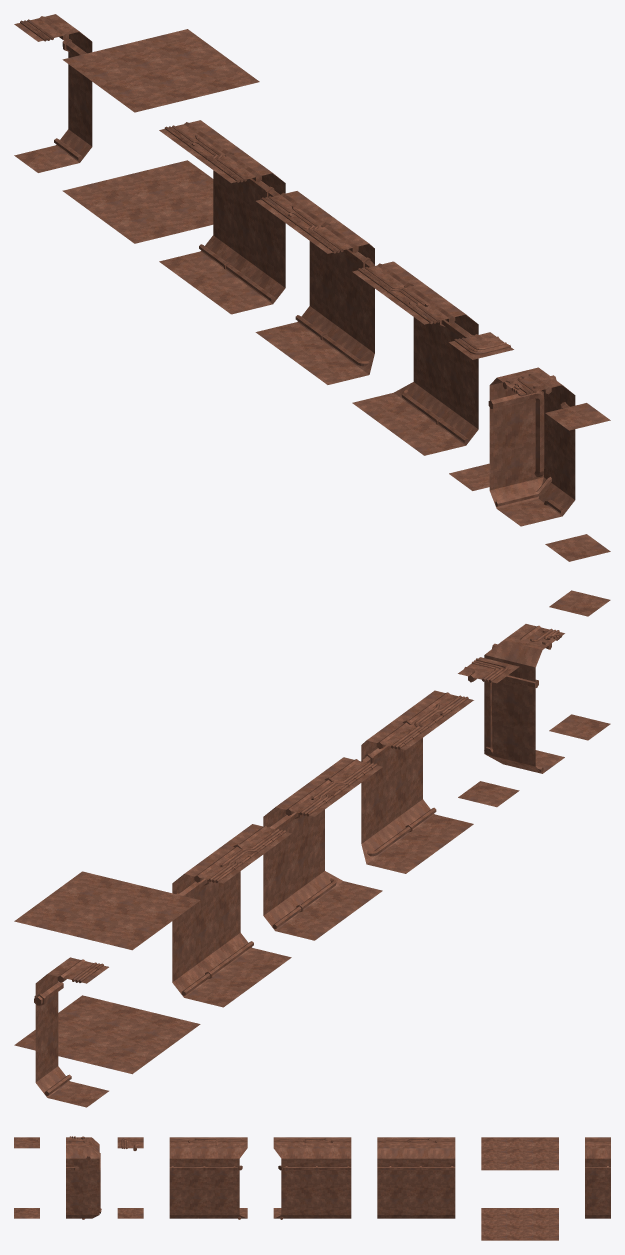
Rendered from tileset.glb.
3 renders of one model, top to bottom at view 1: azimuth 30°, elevation 25°; view 2: azimuth 150°, elevation 25°; view 3: azimuth 270°, elevation 25°, orthographic. The views are drawn at different scales.
Parts seen in each view (by area): view 1: room-col, corridor-col, corner-corridor-alt-col, corner-corridor-col, outer-corner-col, corridor-small-col, small-floor-col, inner-corner-col; view 2: room-col, corridor-col, corner-corridor-col, corner-corridor-alt-col, outer-corner-col, corridor-small-col, inner-corner-col, small-floor-col; view 3: corridor-col, corner-corridor-alt-col, corner-corridor-col, room-col, outer-corner-col, corridor-small-col, inner-corner-col, small-floor-col.
Part boxes in pixels (x1,y1,x2,y2): room-col: [62, 29, 259, 243]; corridor-col: [159, 120, 285, 314]; corner-corridor-alt-col: [352, 261, 478, 455]; corner-corridor-col: [255, 191, 374, 384]; outer-corner-col: [488, 367, 575, 526]; corridor-small-col: [14, 14, 92, 172]; small-floor-col: [545, 403, 610, 561]; inner-corner-col: [449, 332, 513, 490]; room-col: [14, 871, 200, 1074]; corridor-col: [172, 824, 291, 1007]; corner-corridor-col: [263, 757, 382, 940]; corner-corridor-alt-col: [361, 690, 473, 873]; outer-corner-col: [484, 624, 564, 773]; corridor-small-col: [34, 957, 108, 1107]; inner-corner-col: [458, 657, 519, 807]; small-floor-col: [549, 590, 610, 740]; corridor-col: [377, 1137, 455, 1218]; corner-corridor-alt-col: [169, 1137, 247, 1219]; corner-corridor-col: [273, 1137, 351, 1219]; room-col: [481, 1137, 558, 1240]; outer-corner-col: [66, 1136, 101, 1219]; corridor-small-col: [585, 1137, 610, 1218]; inner-corner-col: [117, 1137, 143, 1218]; small-floor-col: [14, 1137, 39, 1218].
Size of the model in its own units: 3 by 3.11 by 23.
1 material, 1 textured.
